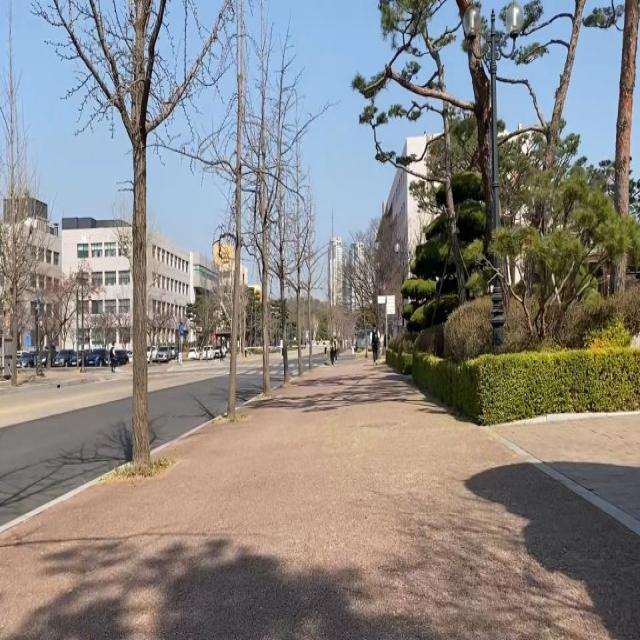sidewalk: (0, 363, 640, 640), (17, 372, 95, 387), (147, 360, 205, 370), (116, 364, 133, 372), (0, 380, 11, 388)
